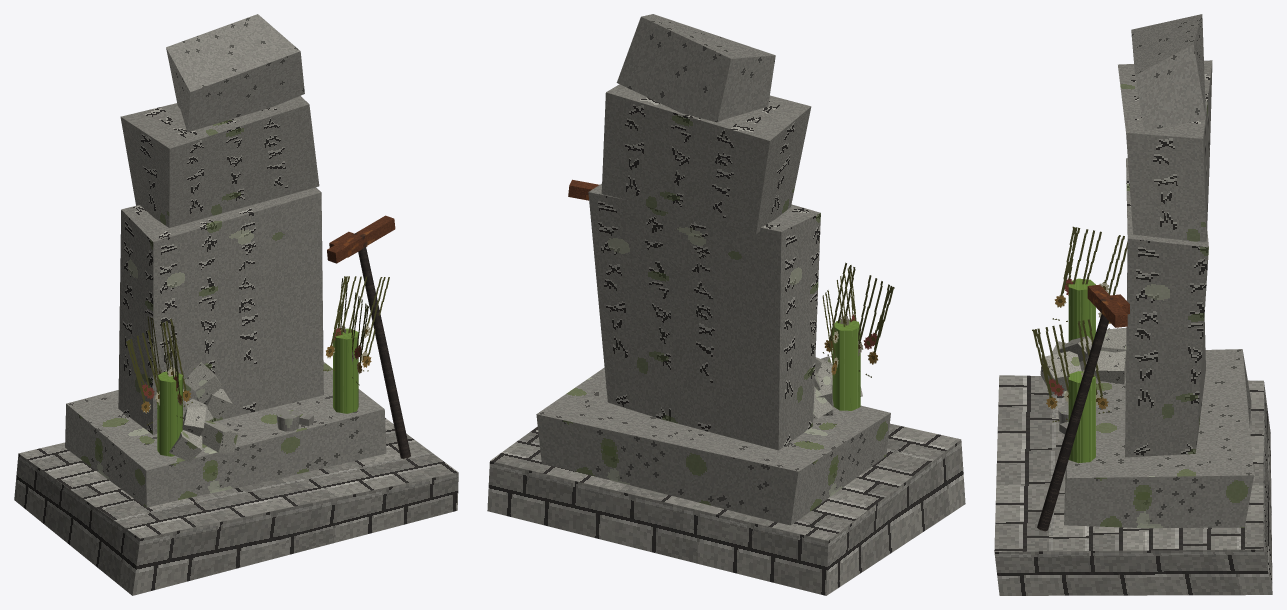
Rendered from prop_memorial.glb.
3 views of the same model, side by side, from view 1: azimuth 30°, elevation 25°; view 2: azimuth 150°, elevation 25°; view 3: azimuth 270°, elevation 25° (orthographic). The views are drawn at different scales.
Parts seen in each view (by area): view 1: prop_memorial; view 2: prop_memorial; view 3: prop_memorial.
Boxes of the visible parts, bbox=[...] form: prop_memorial: bbox=[14, 14, 458, 595]; prop_memorial: bbox=[487, 14, 965, 595]; prop_memorial: bbox=[994, 14, 1272, 595].
Bounding box in the file's own units: 1.55 × 2.13 × 1.07.
8 materials, 8 textured.
